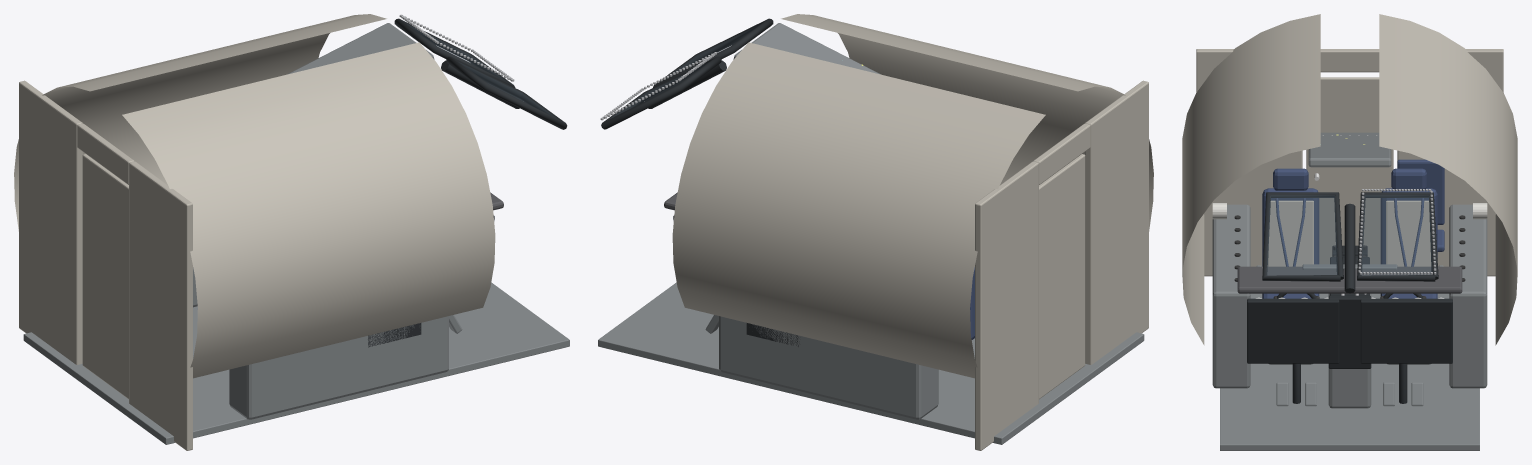
File: cockpit.glb
3 renders of one model, left to right at view 1: azimuth 30°, elevation 25°; view 2: azimuth 150°, elevation 25°; view 3: azimuth 270°, elevation 25°, orthographic. The views are drawn at different scales.
Parts seen in each view (by area): view 1: Flight deck liner beige, Flight deck grey, KEEP FD door, Panel black, Windscreen bolt; view 2: Flight deck liner beige, Flight deck grey, KEEP FD door, Panel black, Windscreen bolt; view 3: Flight deck liner beige, Flight deck grey, Panel black, KEEP FD door, Seat navy fabric, Inner windscreen R, KEEP Inner windscreen L, Seat sheepskin, Glareshield, Windscreen bolt, O2 box, KEEP Yoke L (+1 smaller).
Boxes of the visible parts, x1=… form: Flight deck liner beige: x1=14, y1=14, x2=495, y2=450; Flight deck grey: x1=23, y1=23, x2=569, y2=444; KEEP FD door: x1=82, y1=154, x2=128, y2=399; Panel black: x1=368, y1=18, x2=567, y2=347; Windscreen bolt: x1=399, y1=14, x2=514, y2=81; Flight deck liner beige: x1=672, y1=14, x2=1153, y2=450; Flight deck grey: x1=598, y1=23, x2=1144, y2=444; KEEP FD door: x1=1039, y1=154, x2=1085, y2=399; Panel black: x1=601, y1=18, x2=799, y2=346; Windscreen bolt: x1=600, y1=52, x2=716, y2=120; Flight deck liner beige: x1=1182, y1=14, x2=1517, y2=345; Flight deck grey: x1=1212, y1=132, x2=1487, y2=450; Panel black: x1=1247, y1=192, x2=1452, y2=368; KEEP FD door: x1=1306, y1=77, x2=1393, y2=264; Seat navy fabric: x1=1262, y1=159, x2=1444, y2=298; Inner windscreen R: x1=1266, y1=195, x2=1337, y2=275; KEEP Inner windscreen L: x1=1361, y1=195, x2=1432, y2=275; Seat sheepskin: x1=1267, y1=200, x2=1431, y2=266; Glareshield: x1=1237, y1=266, x2=1462, y2=293; Windscreen bolt: x1=1358, y1=189, x2=1436, y2=274; O2 box: x1=1212, y1=203, x2=1487, y2=219; KEEP Yoke L: x1=1380, y1=293, x2=1426, y2=403.
Bounding box in the file's own units: 3.81 × 2.44 × 2.84.
